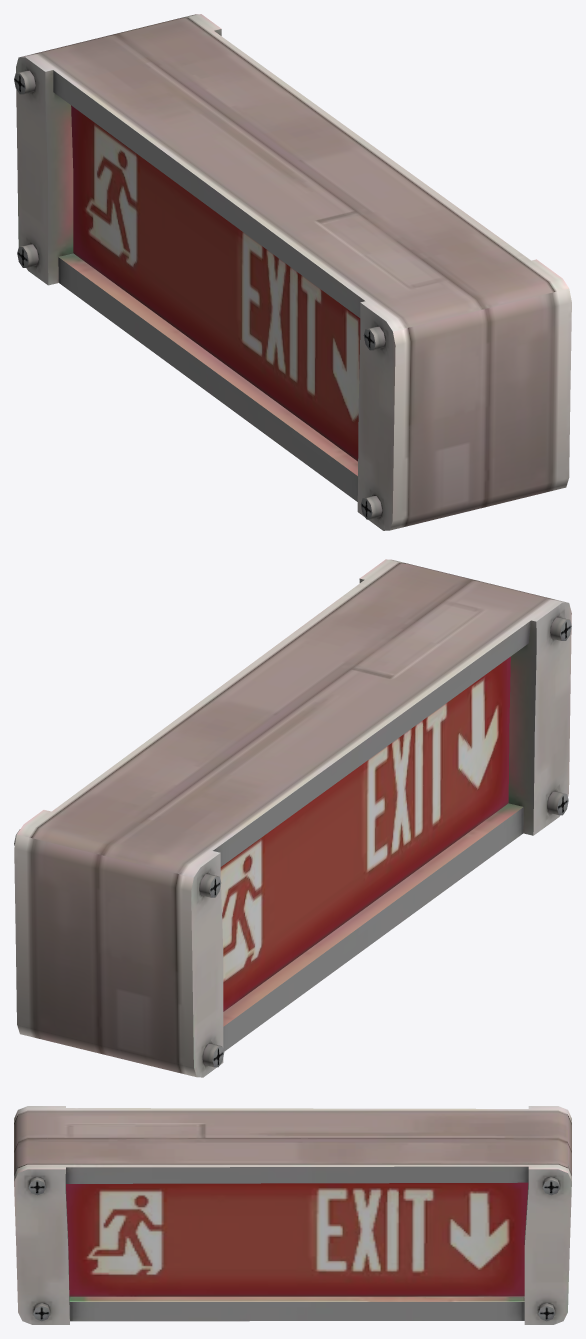
The picture shows the model from 3 angles, top to bottom: view 1: azimuth 30°, elevation 25°; view 2: azimuth 150°, elevation 25°; view 3: azimuth 270°, elevation 25°; orthographic projection. The views are drawn at different scales.
Parts seen in each view (by area): view 1: body0_model0_lod0_mesh0; view 2: body0_model0_lod0_mesh0; view 3: body0_model0_lod0_mesh0.
Part boxes in pixels (x1,y1,x2,y2): body0_model0_lod0_mesh0: [14, 14, 571, 530]; body0_model0_lod0_mesh0: [14, 559, 571, 1077]; body0_model0_lod0_mesh0: [14, 1106, 571, 1324].
Size of the model in its own units: 19.28 by 20 by 65.04.
1 material, 1 textured.
